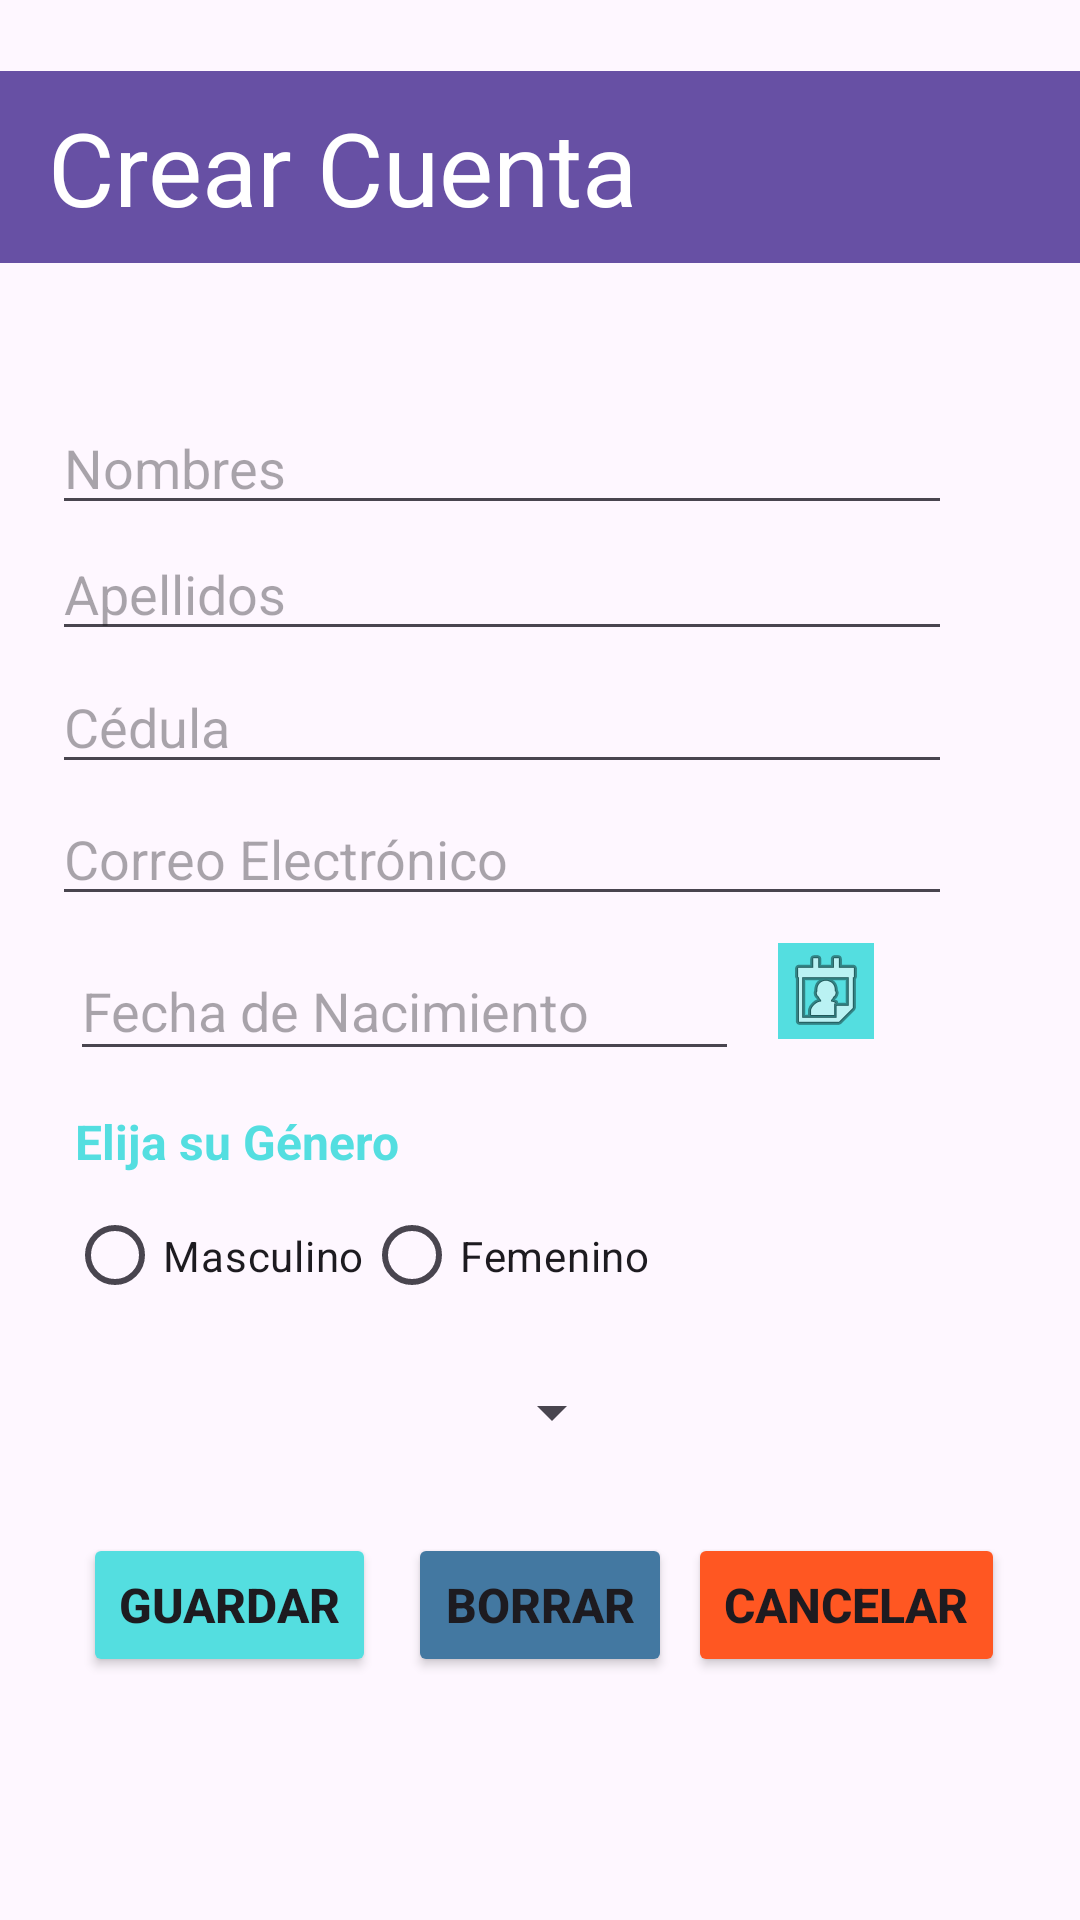

Named icons in this screenshot (1080px×1920px) and their centers, point (x, y):
calendar: point (826, 991)
